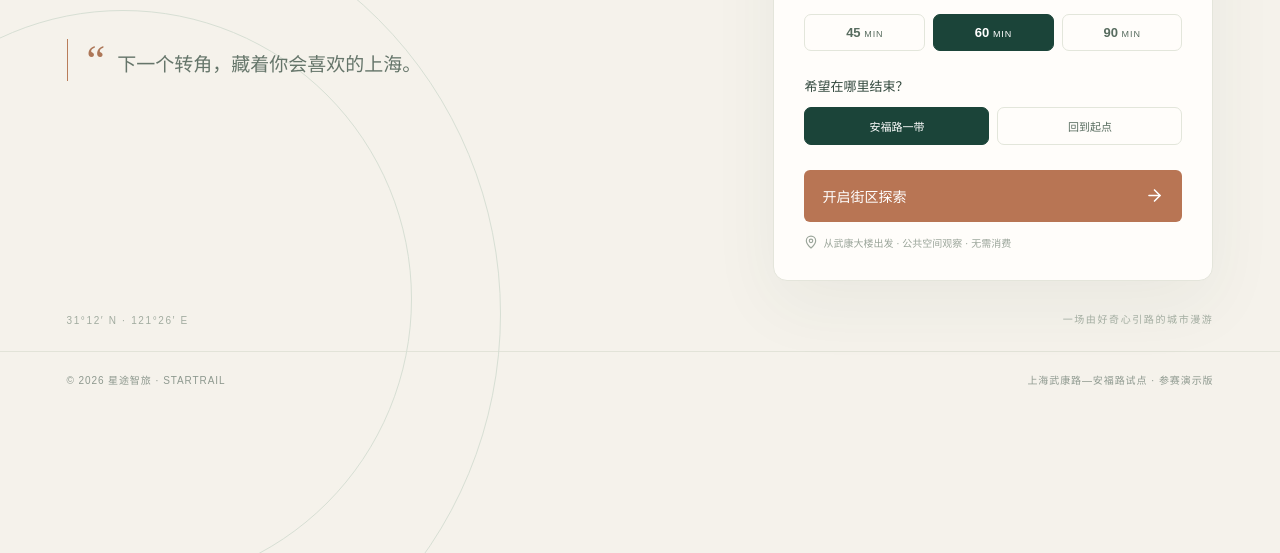
Scenario: recovery and accurate records › remains usable when browser storage is blocked
(page scrolled)
Click the button "开启街区探索": (864, 197) [804,170,1182,222]
(page scrolled)
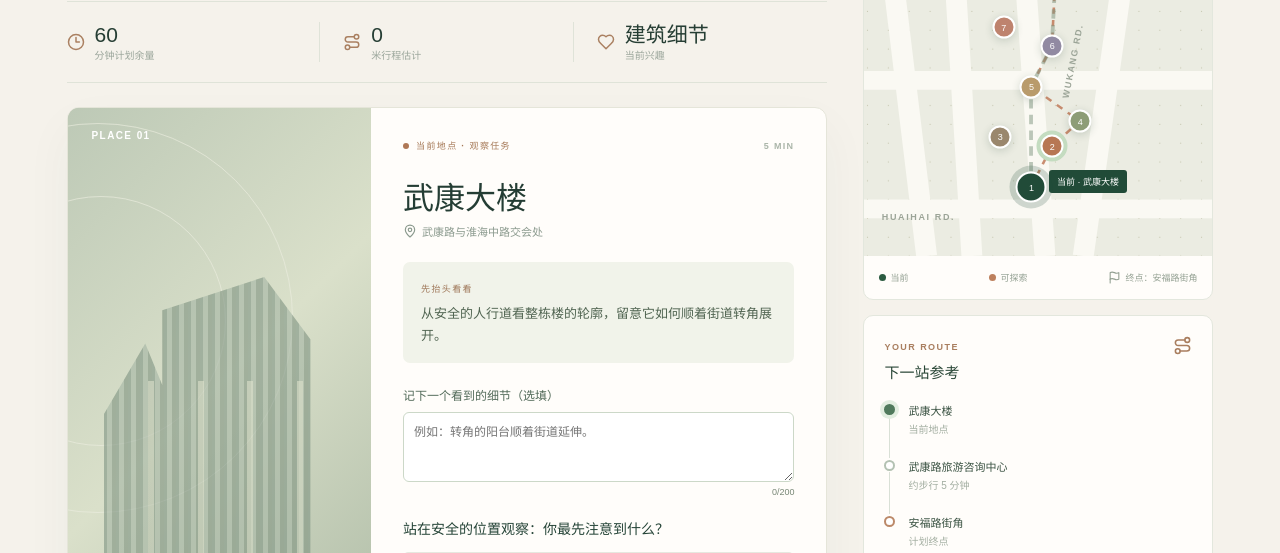
Expected: the heading "武康大楼" is shown, [403,181,527,216]
